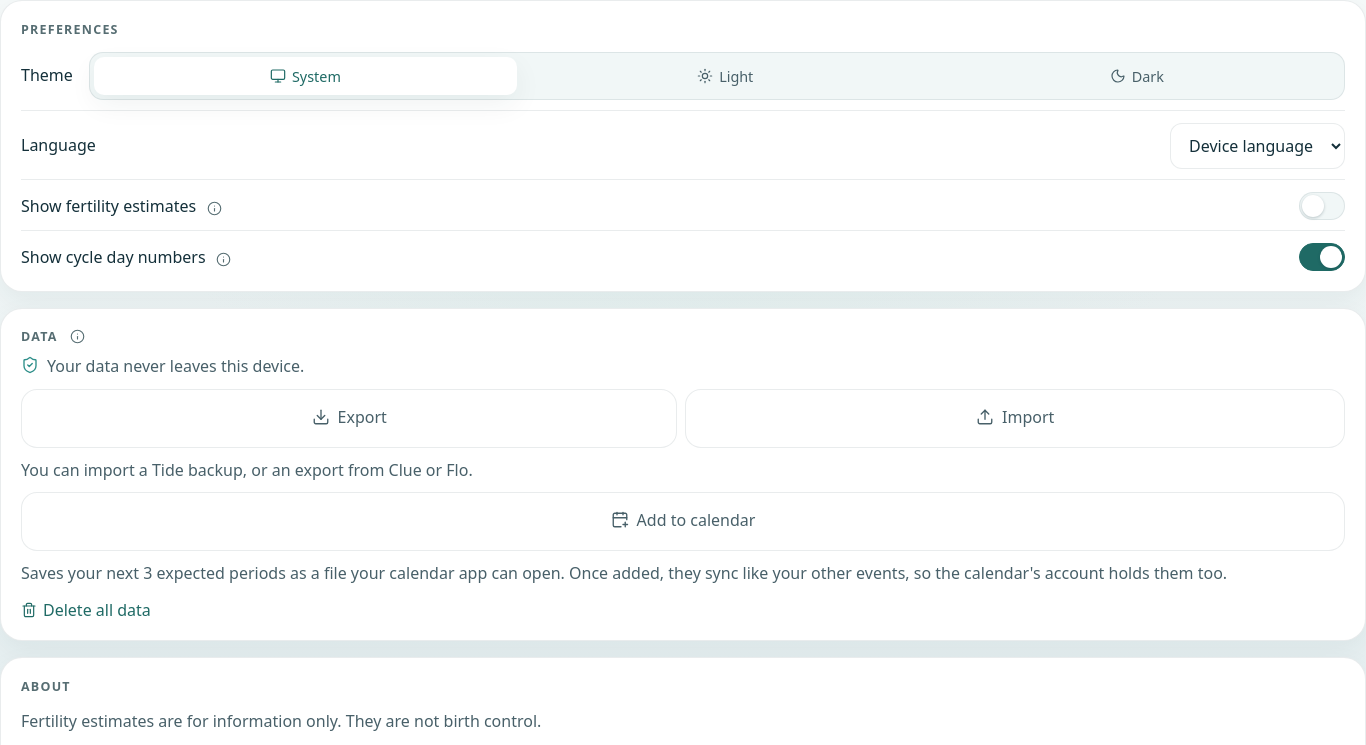
Scenario: a lazy chunk that fails to load › says so in Settings instead of saving nothing
This screenshot has width=1366, height=745.
Click the button "Add to calendar": (683, 522) [21,492,1345,551]
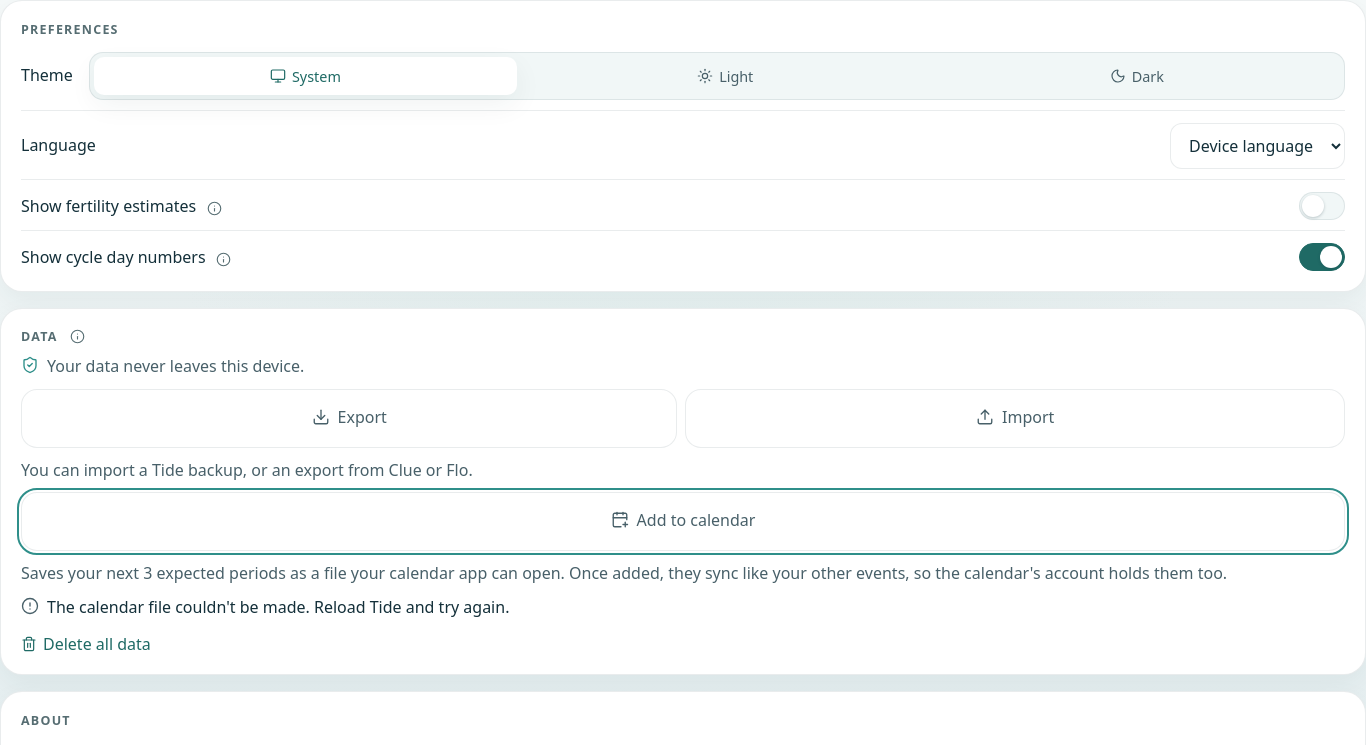
Now the message shows "calendar file couldn't be made", box [47,596,509,618]
